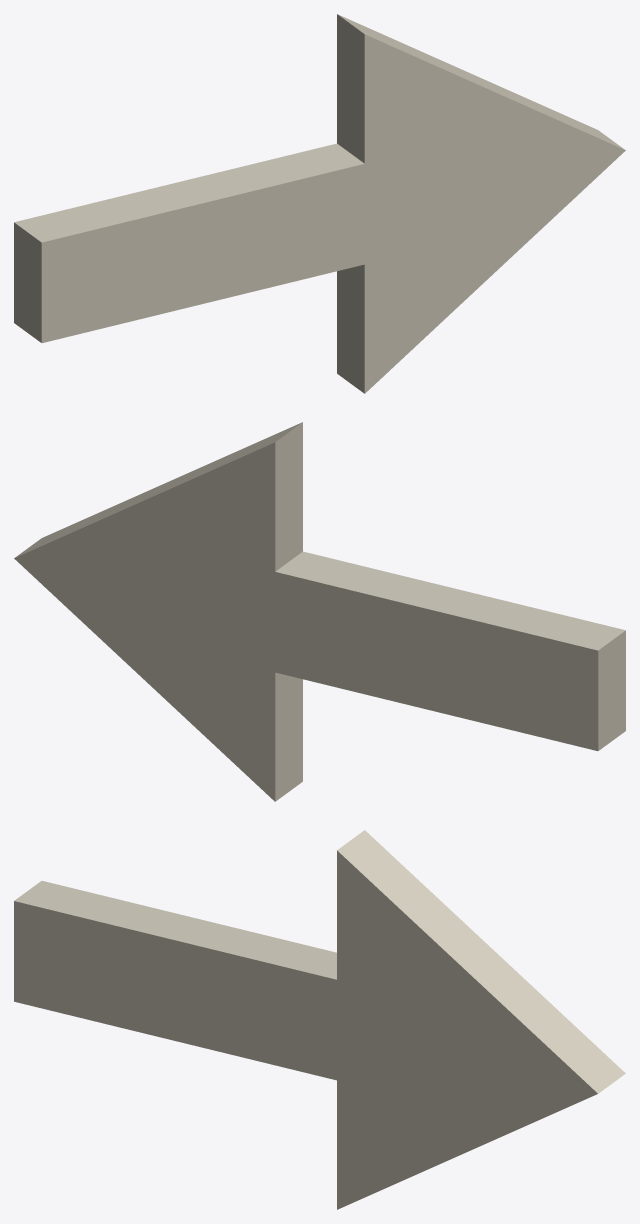
Rendered from sign.glb.
The picture shows the model from 3 angles, top to bottom: view 1: azimuth 30°, elevation 25°; view 2: azimuth 150°, elevation 25°; view 3: azimuth 330°, elevation 25°; orthographic projection.
Visible parts, largest first — view 1: sign; view 2: sign; view 3: sign.
Part boxes in pixels (left/top/right/bottom): sign: left=14, top=14, right=625, bottom=393; sign: left=14, top=422, right=625, bottom=801; sign: left=14, top=830, right=625, bottom=1209.
Size of the model in its own units: 0.3825 by 0.225 by 0.0315.
